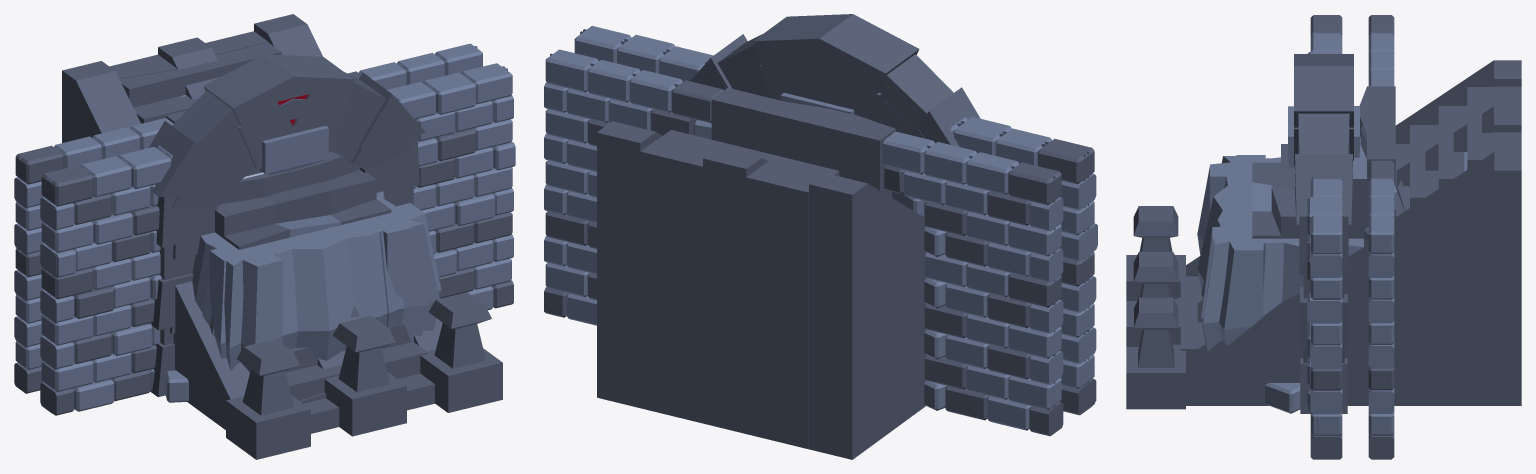
3 renders of one model, left to right at view 1: azimuth 30°, elevation 25°; view 2: azimuth 150°, elevation 25°; view 3: azimuth 270°, elevation 25°, orthographic. The views are drawn at different scales.
Parts seen in each view (by area): view 1: brick_wall_with_bars_001, stairs_003, brick_wall_with_door_001, door_arc_038, ruined_wall, brick_wall_with_door, brick_wall_without_door_001, stairs_002, door_arc_037, floor_338, stairs, stairs_handhail_big (+12 smaller); view 2: stairs_003, ruined_wall, stairs_002, door_arc_038, door_arc_037, brick_wall_with_bars, brick_wall_without_door, brick_wall_with_door, brick_wall_with_bars_001, stairs, door_arc, brick_wall_with_door_001 (+2 smaller); view 3: stairs_003, ruined_wall, door_arc_037, brick_wall_with_bars_001, stairs_002, stairs, stairs_handhail_big, door_arc_038, floor_338, brick_wall_with_bars, floor_107, floor_377 (+7 smaller).
Boxes of the visible parts, bbox=[...] form: brick_wall_with_bars_001: bbox=[45, 67, 515, 414]; stairs_003: bbox=[62, 14, 502, 459]; brick_wall_with_door_001: bbox=[46, 65, 513, 415]; door_arc_038: bbox=[149, 54, 424, 395]; ruined_wall: bbox=[14, 43, 482, 402]; brick_wall_with_door: bbox=[41, 67, 511, 414]; brick_wall_without_door_001: bbox=[47, 74, 515, 415]; stairs_002: bbox=[166, 110, 391, 249]; door_arc_037: bbox=[149, 54, 425, 397]; floor_338: bbox=[209, 195, 404, 363]; stairs: bbox=[119, 42, 434, 433]; stairs_handhail_big: bbox=[158, 37, 406, 436]; stairs_003: bbox=[597, 121, 926, 459]; ruined_wall: bbox=[544, 49, 1063, 436]; stairs_002: bbox=[711, 88, 895, 197]; door_arc_038: bbox=[690, 14, 980, 145]; door_arc_037: bbox=[711, 14, 973, 146]; brick_wall_with_bars: bbox=[574, 32, 1090, 414]; brick_wall_without_door: bbox=[576, 31, 1090, 415]; brick_wall_with_door: bbox=[583, 29, 1096, 414]; brick_wall_with_bars_001: bbox=[581, 26, 1094, 386]; stairs: bbox=[658, 130, 851, 179]; door_arc: bbox=[717, 67, 922, 137]; brick_wall_with_door_001: bbox=[582, 26, 1097, 405]; stairs_003: bbox=[1126, 60, 1521, 409]; ruined_wall: bbox=[1265, 15, 1396, 459]; door_arc_037: bbox=[1294, 54, 1353, 413]; brick_wall_with_bars_001: bbox=[1294, 15, 1353, 459]; stairs_002: bbox=[1252, 86, 1395, 238]; stairs: bbox=[1173, 87, 1492, 356]; stairs_handhail_big: bbox=[1126, 106, 1521, 346]; door_arc_038: bbox=[1294, 54, 1353, 413]; floor_338: bbox=[1197, 155, 1363, 315]; brick_wall_with_bars: bbox=[1317, 15, 1342, 459]; floor_107: bbox=[1201, 160, 1266, 345]; floor_377: bbox=[1203, 224, 1299, 351].
Size of the model in its own units: 6.01 by 3.65 by 4.59.
